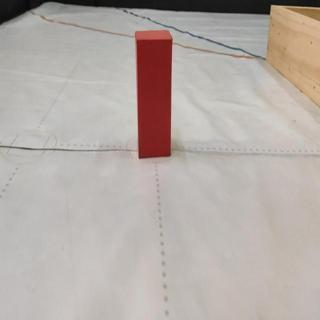redbox: (135, 31, 172, 159)
